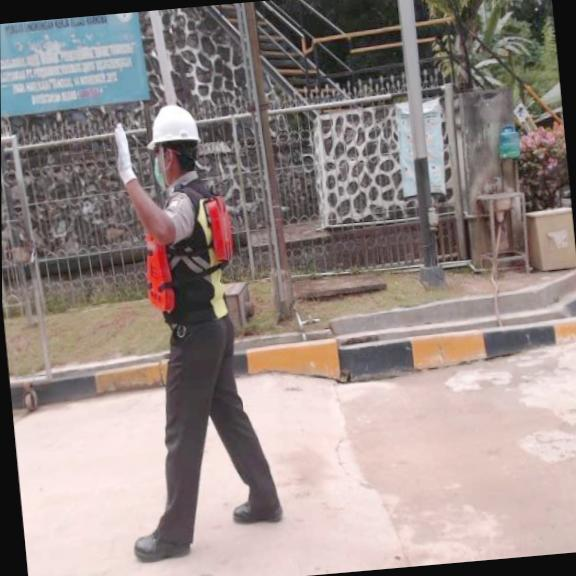safety_vest: (133, 192, 241, 316)
